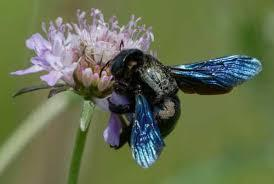Xylocopa: (87, 32, 266, 167)
